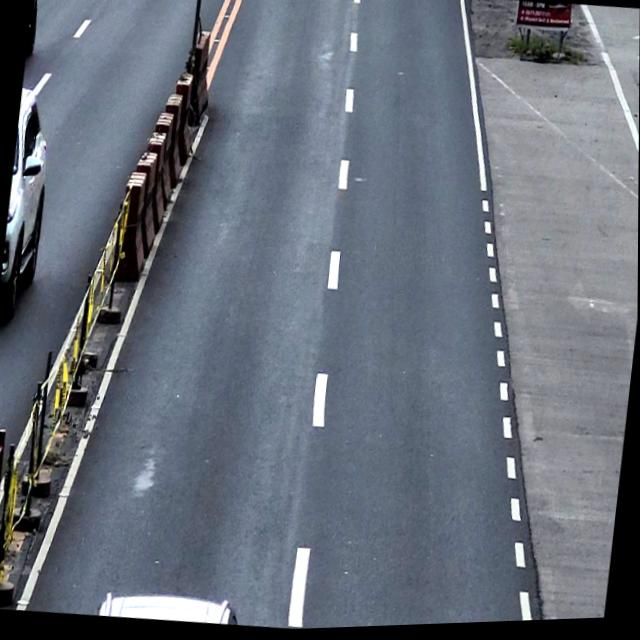Car: (0, 85, 57, 317), (98, 586, 241, 630)
